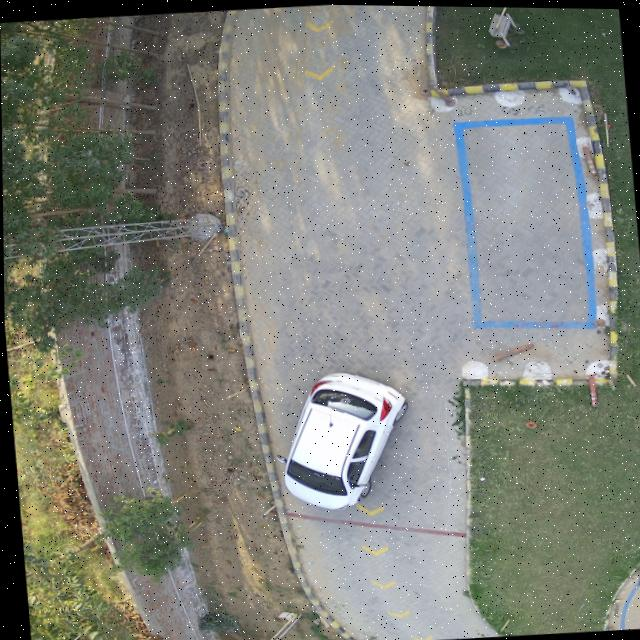car: (278, 370, 405, 508)
